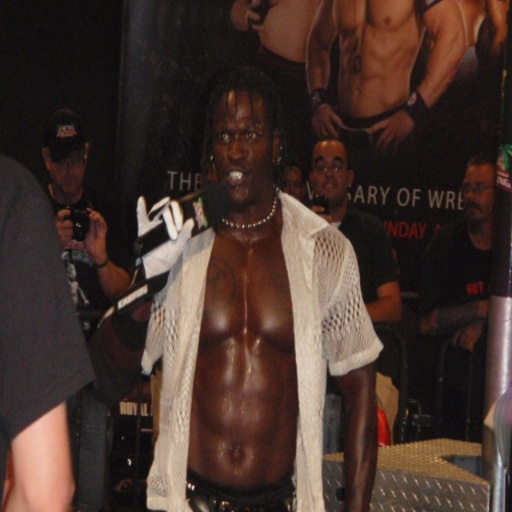hand: (134, 195, 195, 281), (70, 201, 106, 272), (366, 108, 415, 158), (311, 99, 347, 140), (451, 316, 486, 355), (243, 0, 280, 35), (52, 206, 76, 256), (307, 203, 333, 224)
